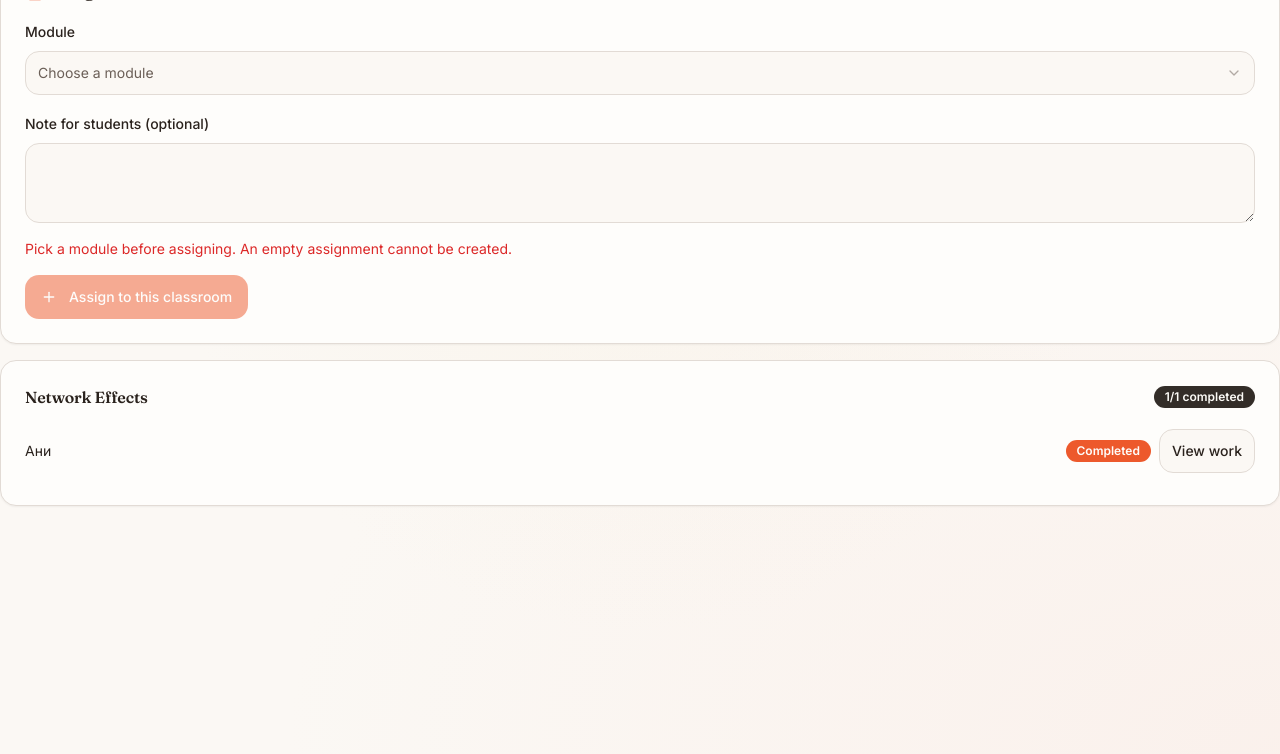
Scenario: 5. feedback save branches › blocks saving when existing feedback could not be loaded
The image size is (1280, 754).
Later steps or results of the test are not shown.
Click the button "View work": (1207, 451) left=1159, top=429, right=1255, bottom=473
(page scrolled)
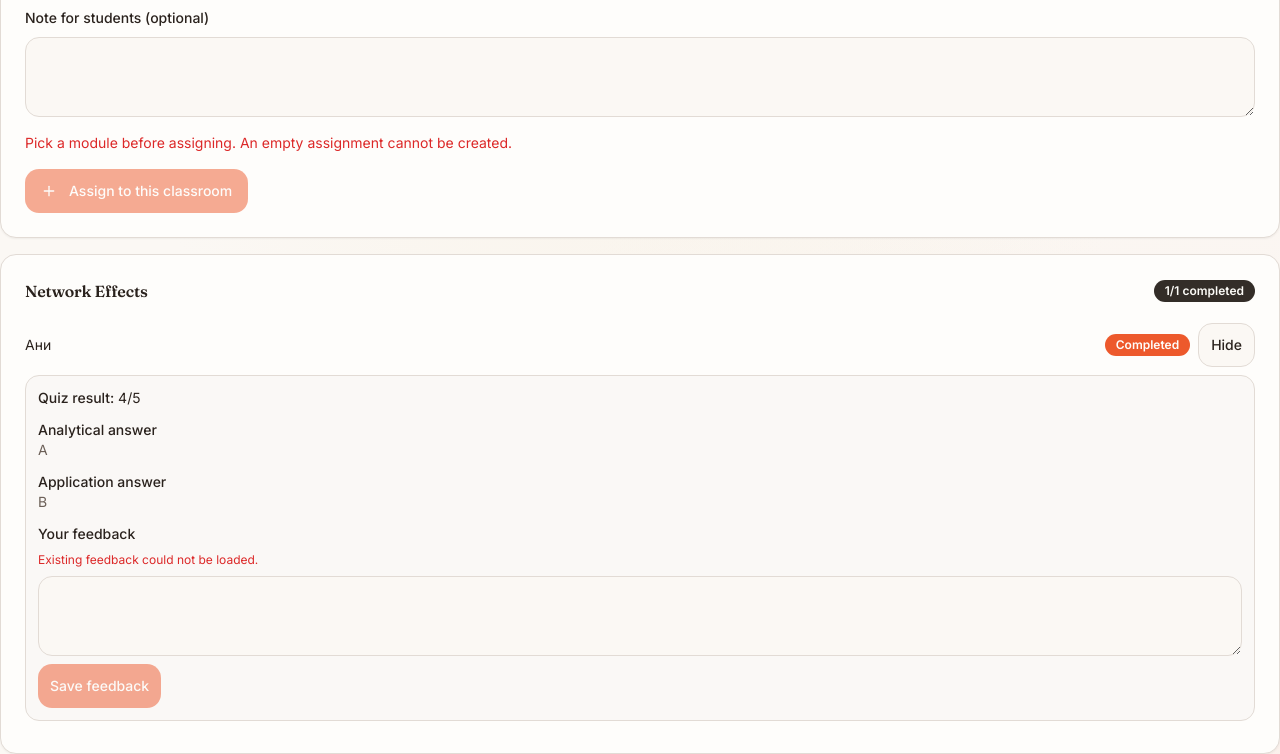
Expected: the text "Existing feedback could not be loaded." is shown, left=38, top=552, right=258, bottom=567
In the text box labelled "Your feedback": (640, 616) left=38, top=576, right=1242, bottom=656, type "Should not save"
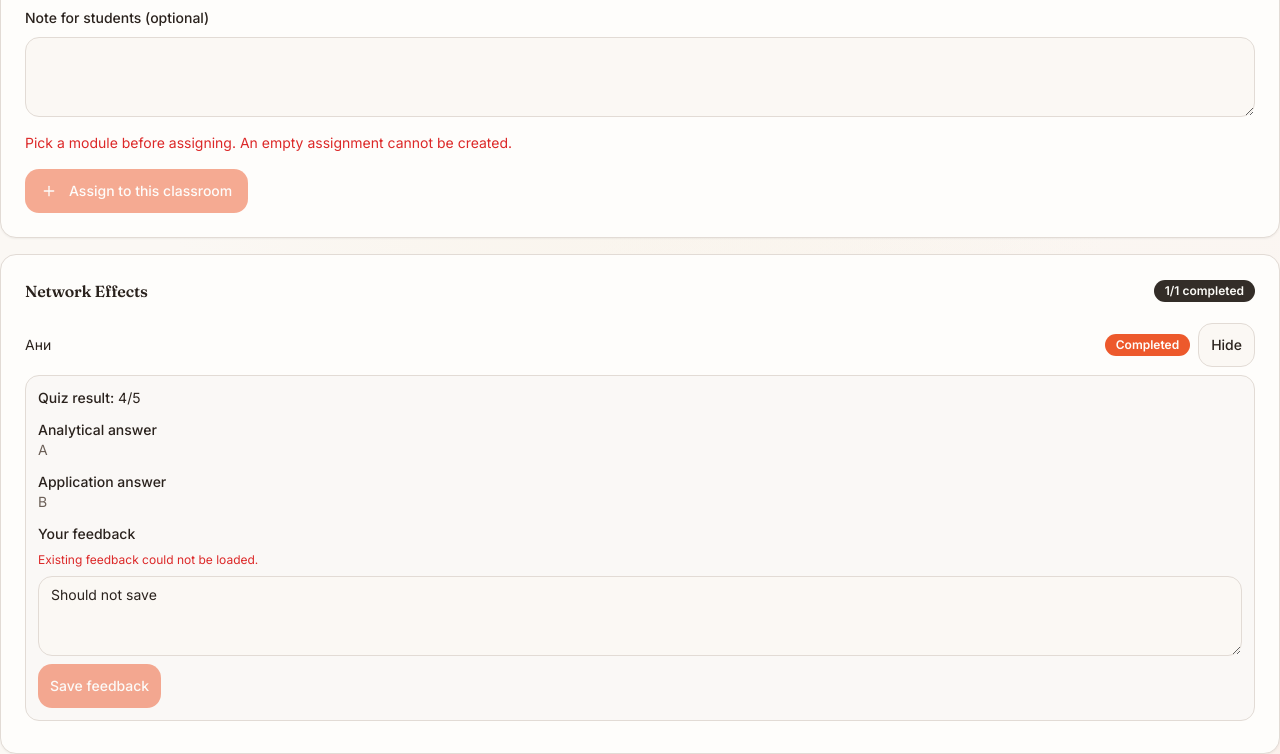
Expected: the button "Save feedback" is disabled, left=38, top=664, right=161, bottom=708
